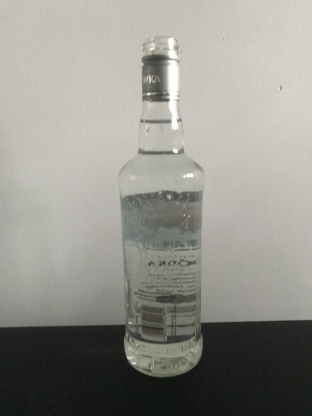nakretka: (139, 34, 182, 102)
